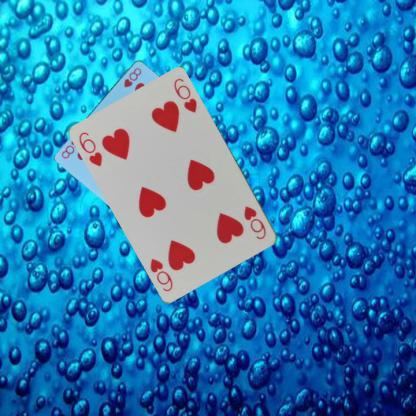6h: (76, 130, 104, 168), (242, 203, 268, 241)
8h: (121, 65, 143, 88)
